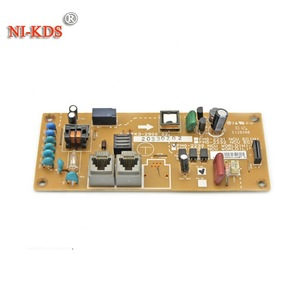capacitor: (211, 109, 228, 131), (180, 154, 190, 174), (68, 112, 77, 124), (69, 105, 77, 111)
